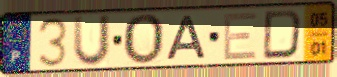3: (36, 16, 69, 70)
A: (165, 14, 209, 62)
D: (260, 8, 305, 61)
E: (222, 10, 260, 62)
O: (121, 12, 167, 67)
U: (71, 13, 114, 69)
